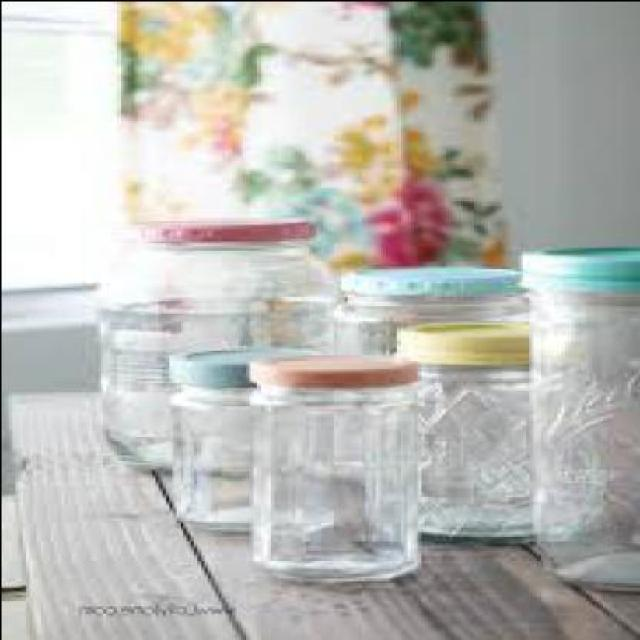GLASS: (105, 242, 346, 467), (259, 377, 427, 580), (536, 291, 638, 586), (413, 362, 542, 538), (343, 293, 528, 356), (178, 384, 256, 524)
PLASTIC: (524, 242, 638, 292), (402, 318, 535, 358), (258, 347, 412, 381), (178, 342, 311, 380), (349, 263, 525, 289), (140, 216, 315, 242)
